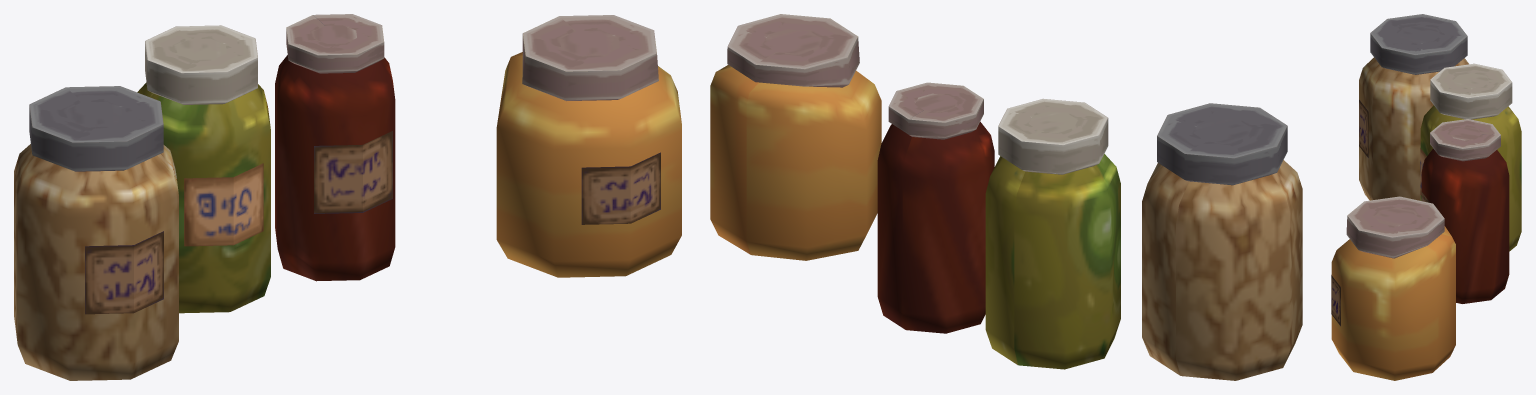
File: Jar_Group2_uo.fbx
The picture shows the model from 3 angles, left to right: view 1: azimuth 30°, elevation 25°; view 2: azimuth 150°, elevation 25°; view 3: azimuth 270°, elevation 25°; orthographic projection. The views are drawn at different scales.
Visible parts, largest first — view 1: Jar_Group2; view 2: Jar_Group2; view 3: Jar_Group2.
Part boxes in pixels (bbox=[...]): Jar_Group2: bbox=[14, 14, 681, 380]; Jar_Group2: bbox=[710, 14, 1302, 380]; Jar_Group2: bbox=[1331, 14, 1521, 380].
Size of the model in its own units: 58.2 by 20.65 by 21.85.
Materials: 1 (1 with a texture image).
